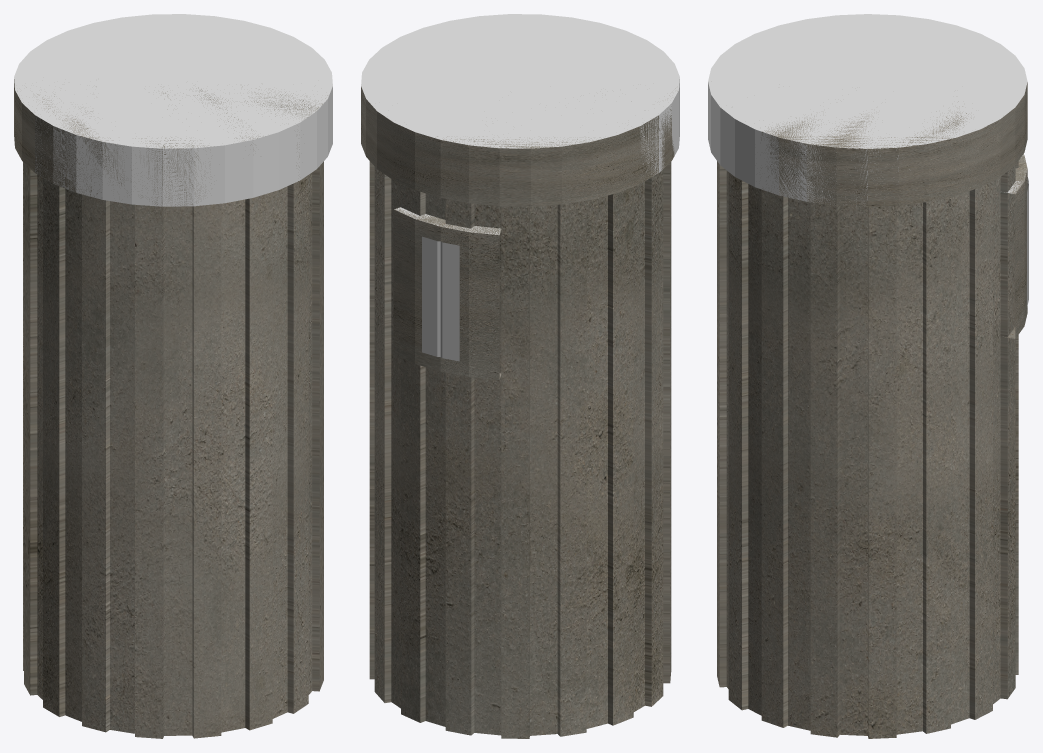
File: KeyHole.fbx
3 renders of one model, left to right at view 1: azimuth 30°, elevation 25°; view 2: azimuth 150°, elevation 25°; view 3: azimuth 270°, elevation 25°, orthographic.
Visible parts, largest first — view 1: Cylinder, Cylinder.001; view 2: Cylinder, Cylinder.001, KEYHOLE; view 3: Cylinder, Cylinder.001.
Boxes of the visible parts, left/top/right/bottom form: Cylinder: left=14, top=79, right=327, bottom=738; Cylinder.001: left=14, top=14, right=332, bottom=206; Cylinder: left=361, top=86, right=677, bottom=738; Cylinder.001: left=361, top=14, right=679, bottom=174; KEYHOLE: left=422, top=236, right=459, bottom=361; Cylinder: left=717, top=82, right=1027, bottom=738; Cylinder.001: left=708, top=14, right=1027, bottom=206.
Bounding box in the file's own units: 200 × 410 × 201.
